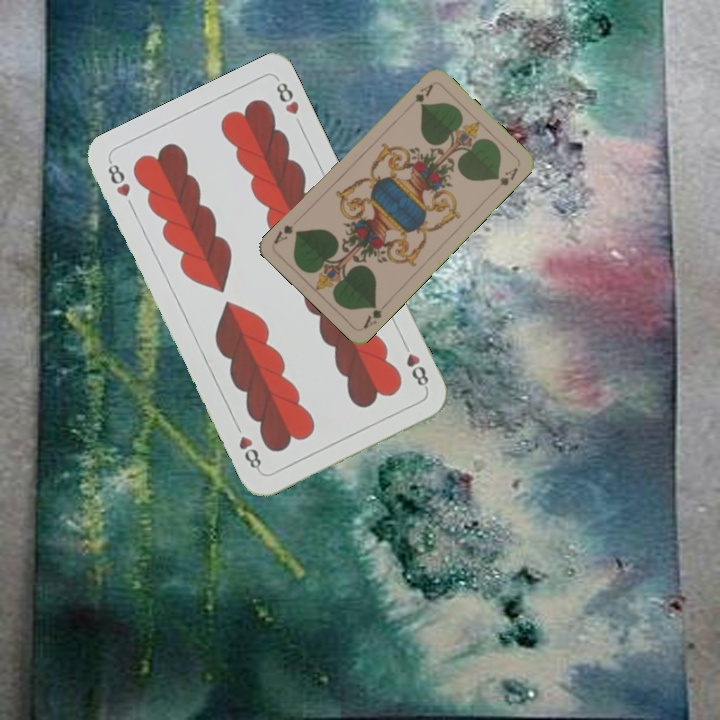GA: (403, 80, 436, 111), (359, 300, 385, 332)
H8: (398, 337, 432, 393), (103, 157, 133, 200)
